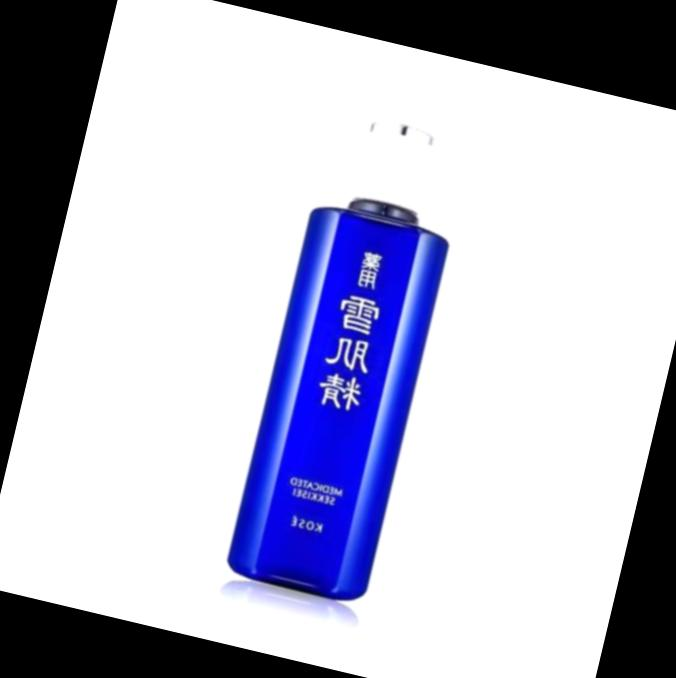cosmetic: (215, 110, 475, 608)
